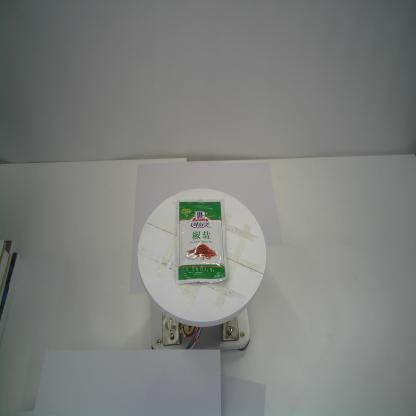Seasoner: (174, 198, 229, 284)
